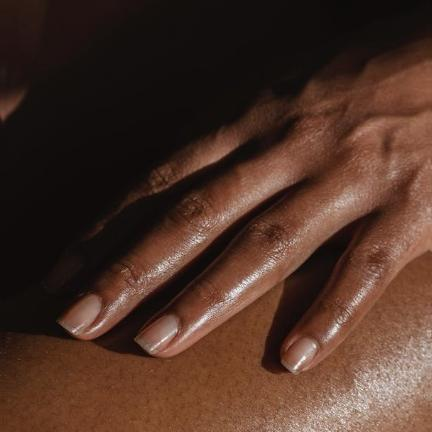Nail: (57, 294, 101, 337), (134, 315, 178, 356), (281, 338, 319, 376)
